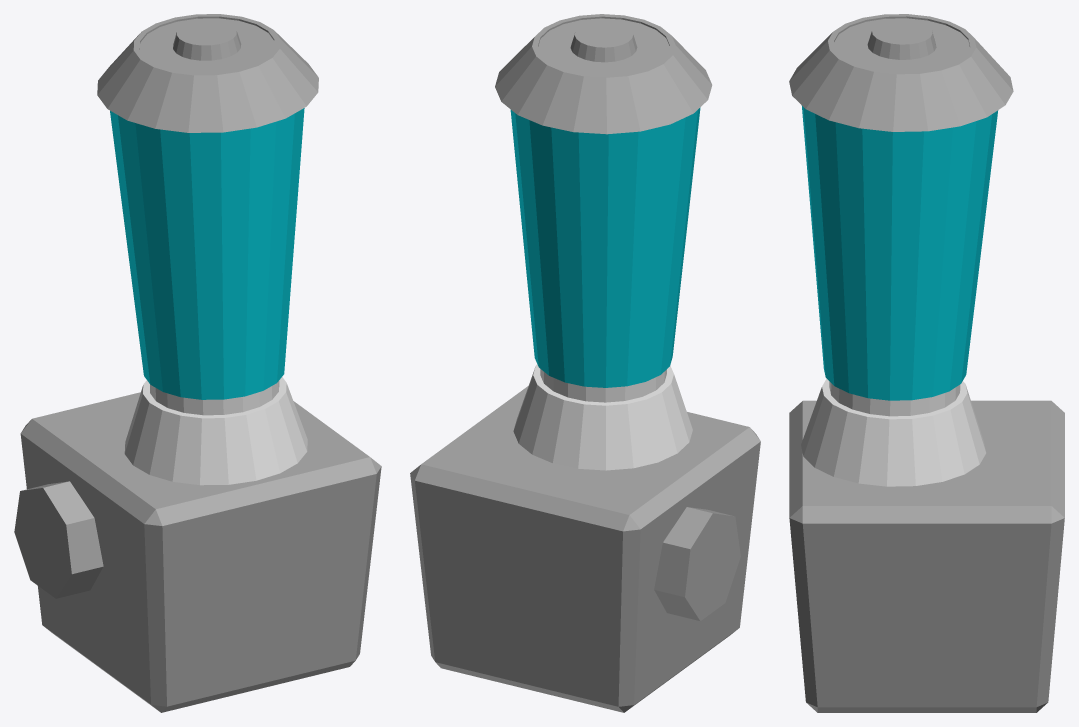
File: Blender(V2).fbx
3 renders of one model, left to right at view 1: azimuth 30°, elevation 25°; view 2: azimuth 150°, elevation 25°; view 3: azimuth 270°, elevation 25°, orthographic. The views are drawn at different scales.
Parts seen in each view (by area): view 1: polySurface77, polySurface79; view 2: polySurface77, polySurface79; view 3: polySurface79, polySurface77.
Part boxes in pixels (x1,y1,x2,y2): polySurface77: [14, 392, 381, 712]; polySurface79: [97, 14, 318, 485]; polySurface77: [410, 386, 760, 712]; polySurface79: [495, 14, 712, 470]; polySurface79: [789, 14, 1013, 486]; polySurface77: [789, 400, 1064, 712].
Bounding box in the file's own units: 5.15 × 11.75 × 4.65.
